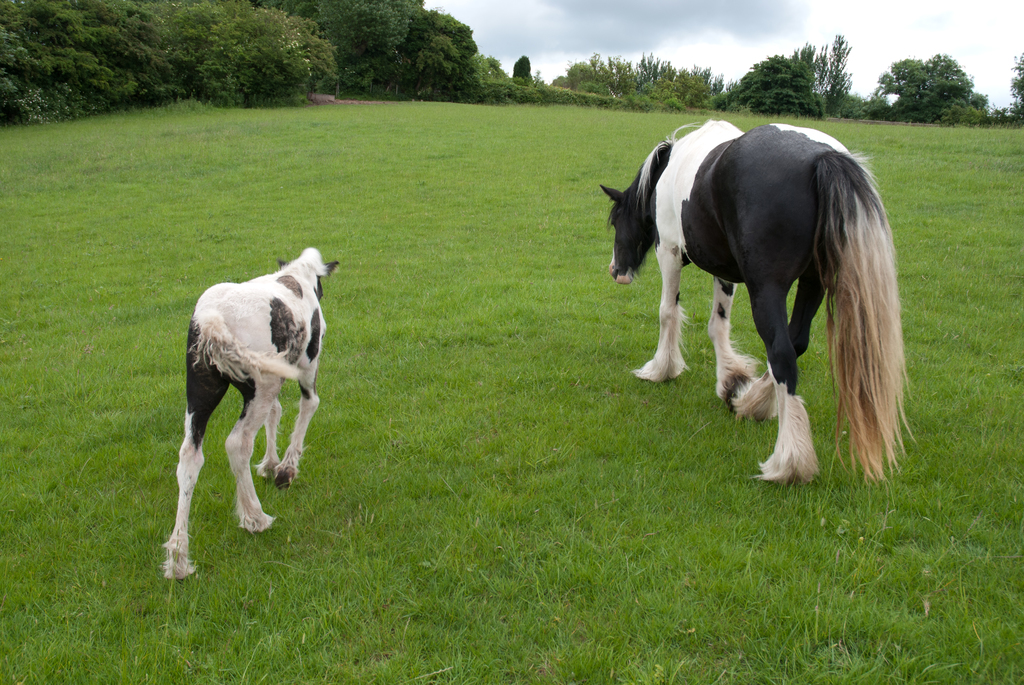horse: (599, 123, 917, 488), (161, 246, 341, 578)
